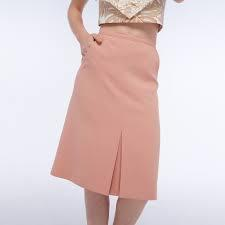skirt: (48, 17, 177, 210)
